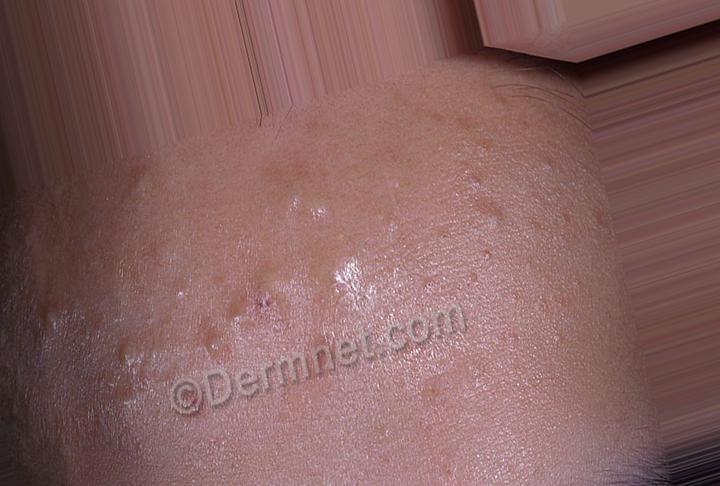Acne: (476, 114, 605, 215), (161, 254, 276, 365), (246, 146, 341, 231), (416, 264, 538, 325), (299, 225, 386, 302), (93, 344, 169, 420), (425, 188, 514, 239), (86, 156, 169, 205), (0, 221, 55, 265), (19, 306, 73, 340)
